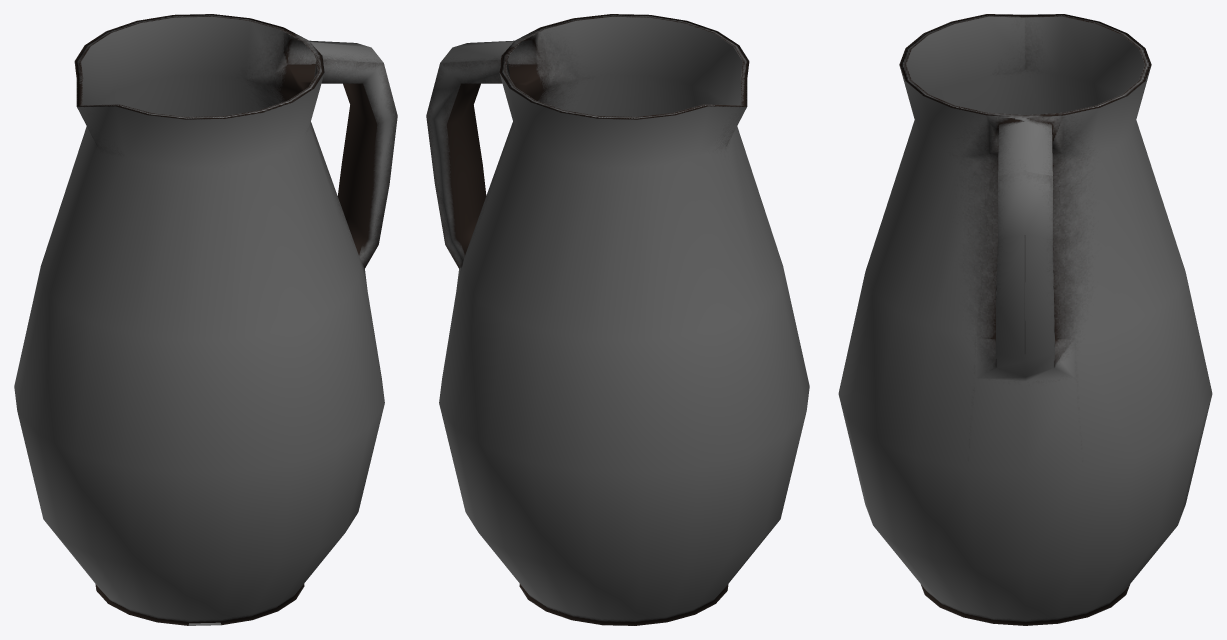
Rendered from fbx_JarraGrande.fbx.
The picture shows the model from 3 angles, left to right: view 1: azimuth 30°, elevation 25°; view 2: azimuth 150°, elevation 25°; view 3: azimuth 270°, elevation 25°; orthographic projection.
Parts seen in each view (by area): view 1: pCylinder3; view 2: pCylinder3; view 3: pCylinder3.
Part boxes in pixels (<box>): pCylinder3: <box>14,14,397,625</box>; pCylinder3: <box>426,14,809,625</box>; pCylinder3: <box>838,14,1212,625</box>.
Bounding box in the file's own units: 16.06 × 22.74 × 14.93.
1 material, 1 textured.
